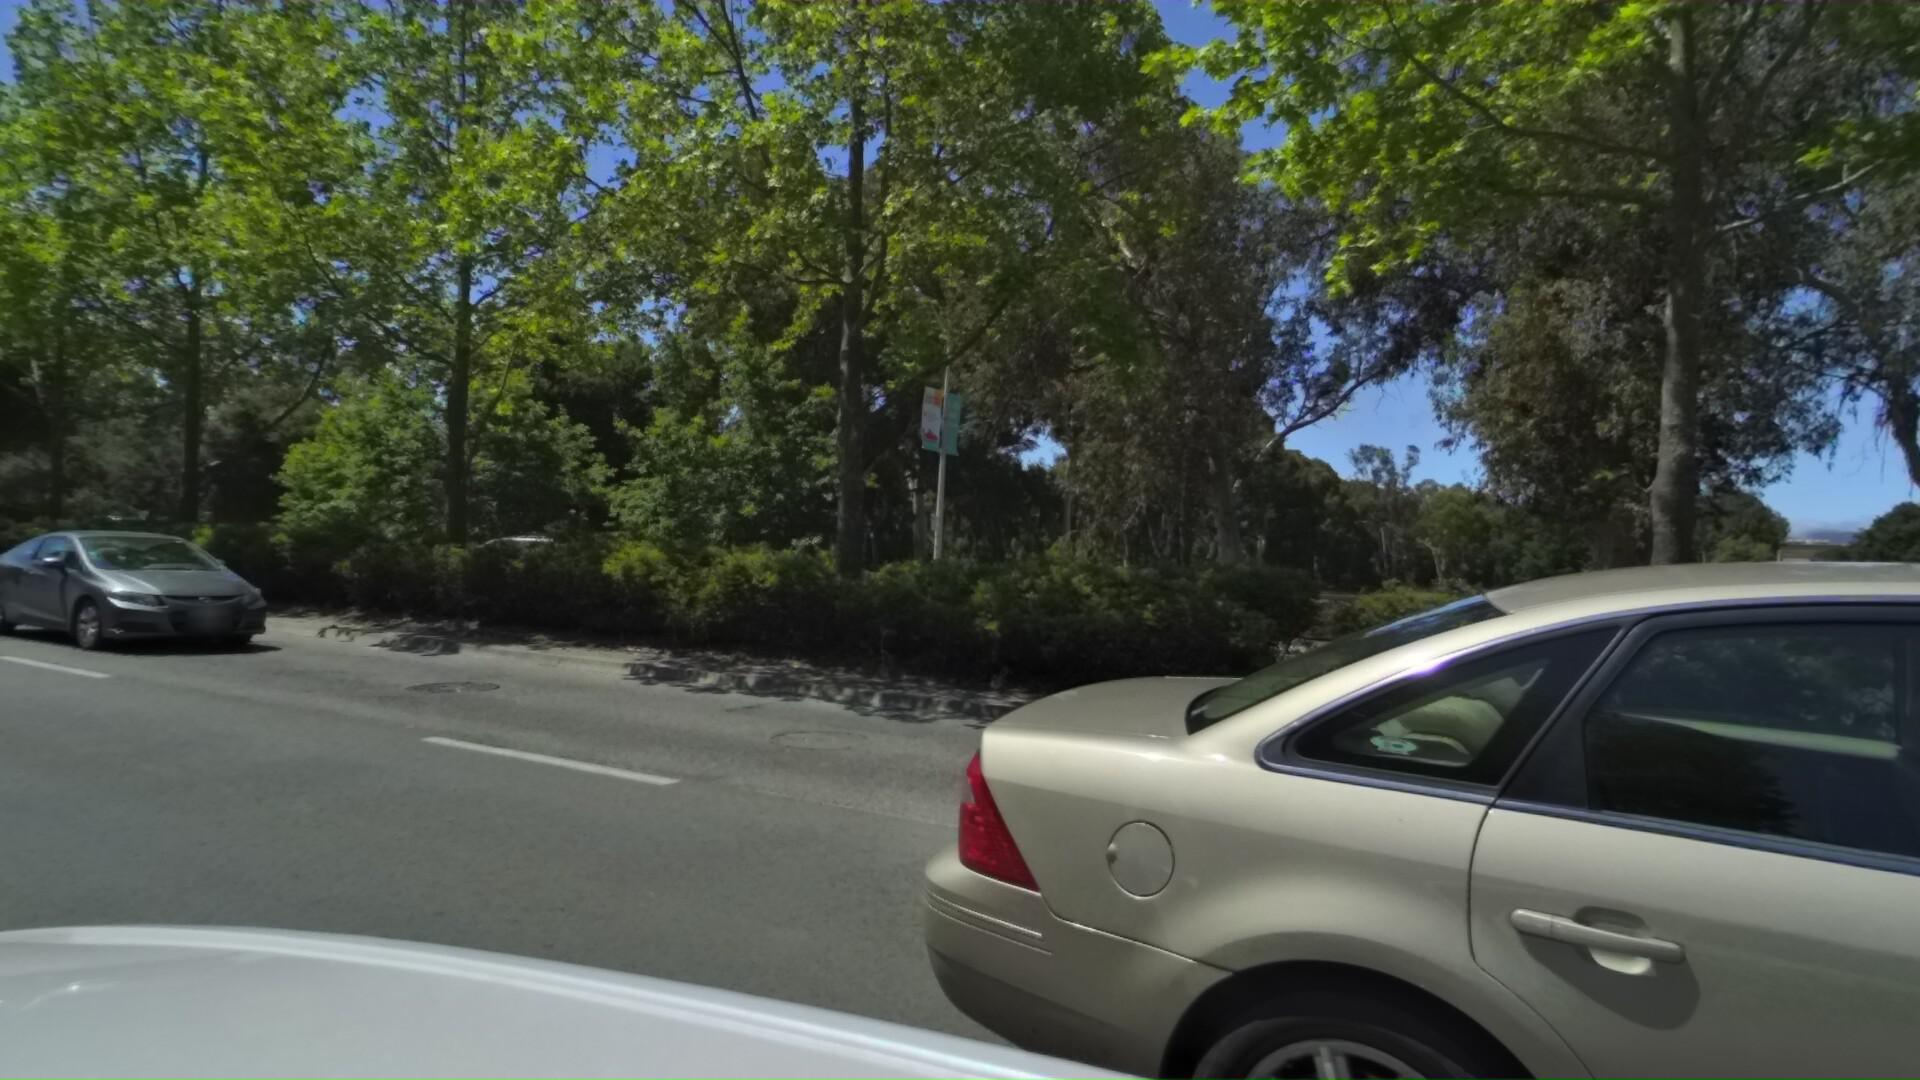car: (0, 520, 295, 662)
